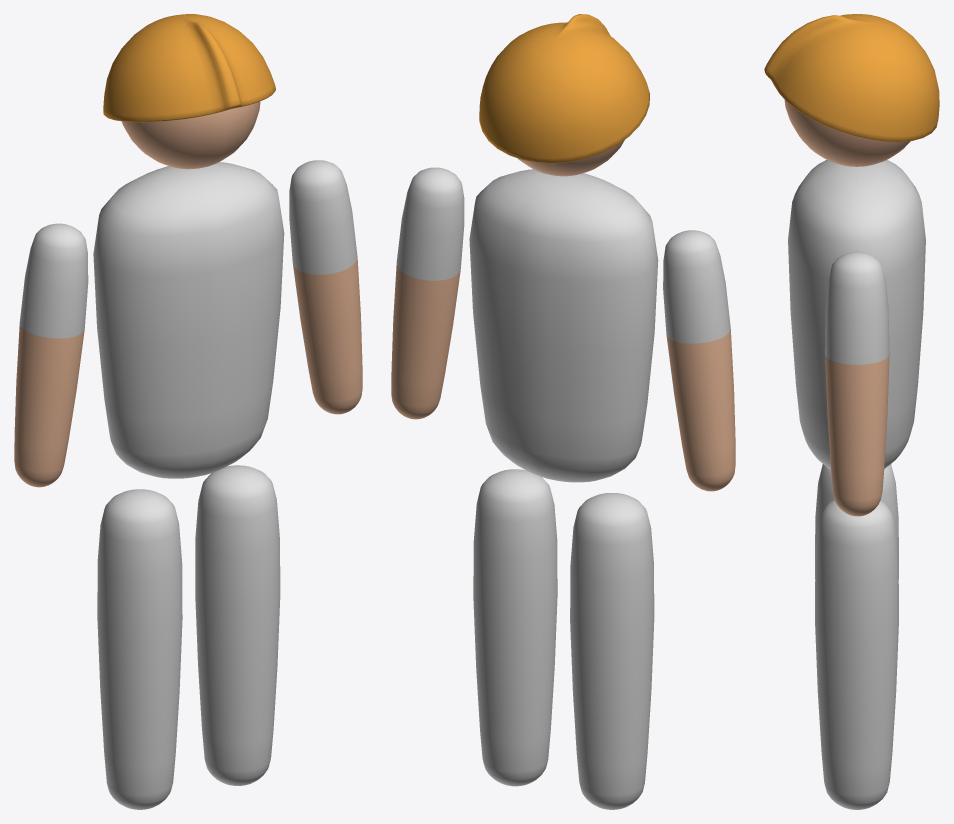
The model's file is Electrician.fbx.
3 views of the same model, side by side, from view 1: azimuth 30°, elevation 25°; view 2: azimuth 150°, elevation 25°; view 3: azimuth 270°, elevation 25° (orthographic).
Parts seen in each view (by area): view 1: Cube.001; view 2: Cube.001; view 3: Cube.001.
Part boxes in pixels (x1,y1,x2,y2): Cube.001: [14, 14, 362, 809]; Cube.001: [391, 14, 735, 809]; Cube.001: [764, 14, 939, 809].
Size of the model in its own units: 84.7 by 185 by 38.19.
